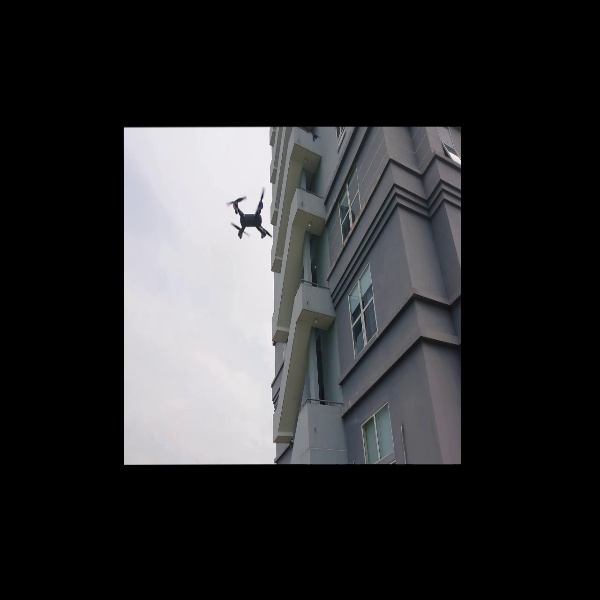drone: (222, 185, 274, 246)
